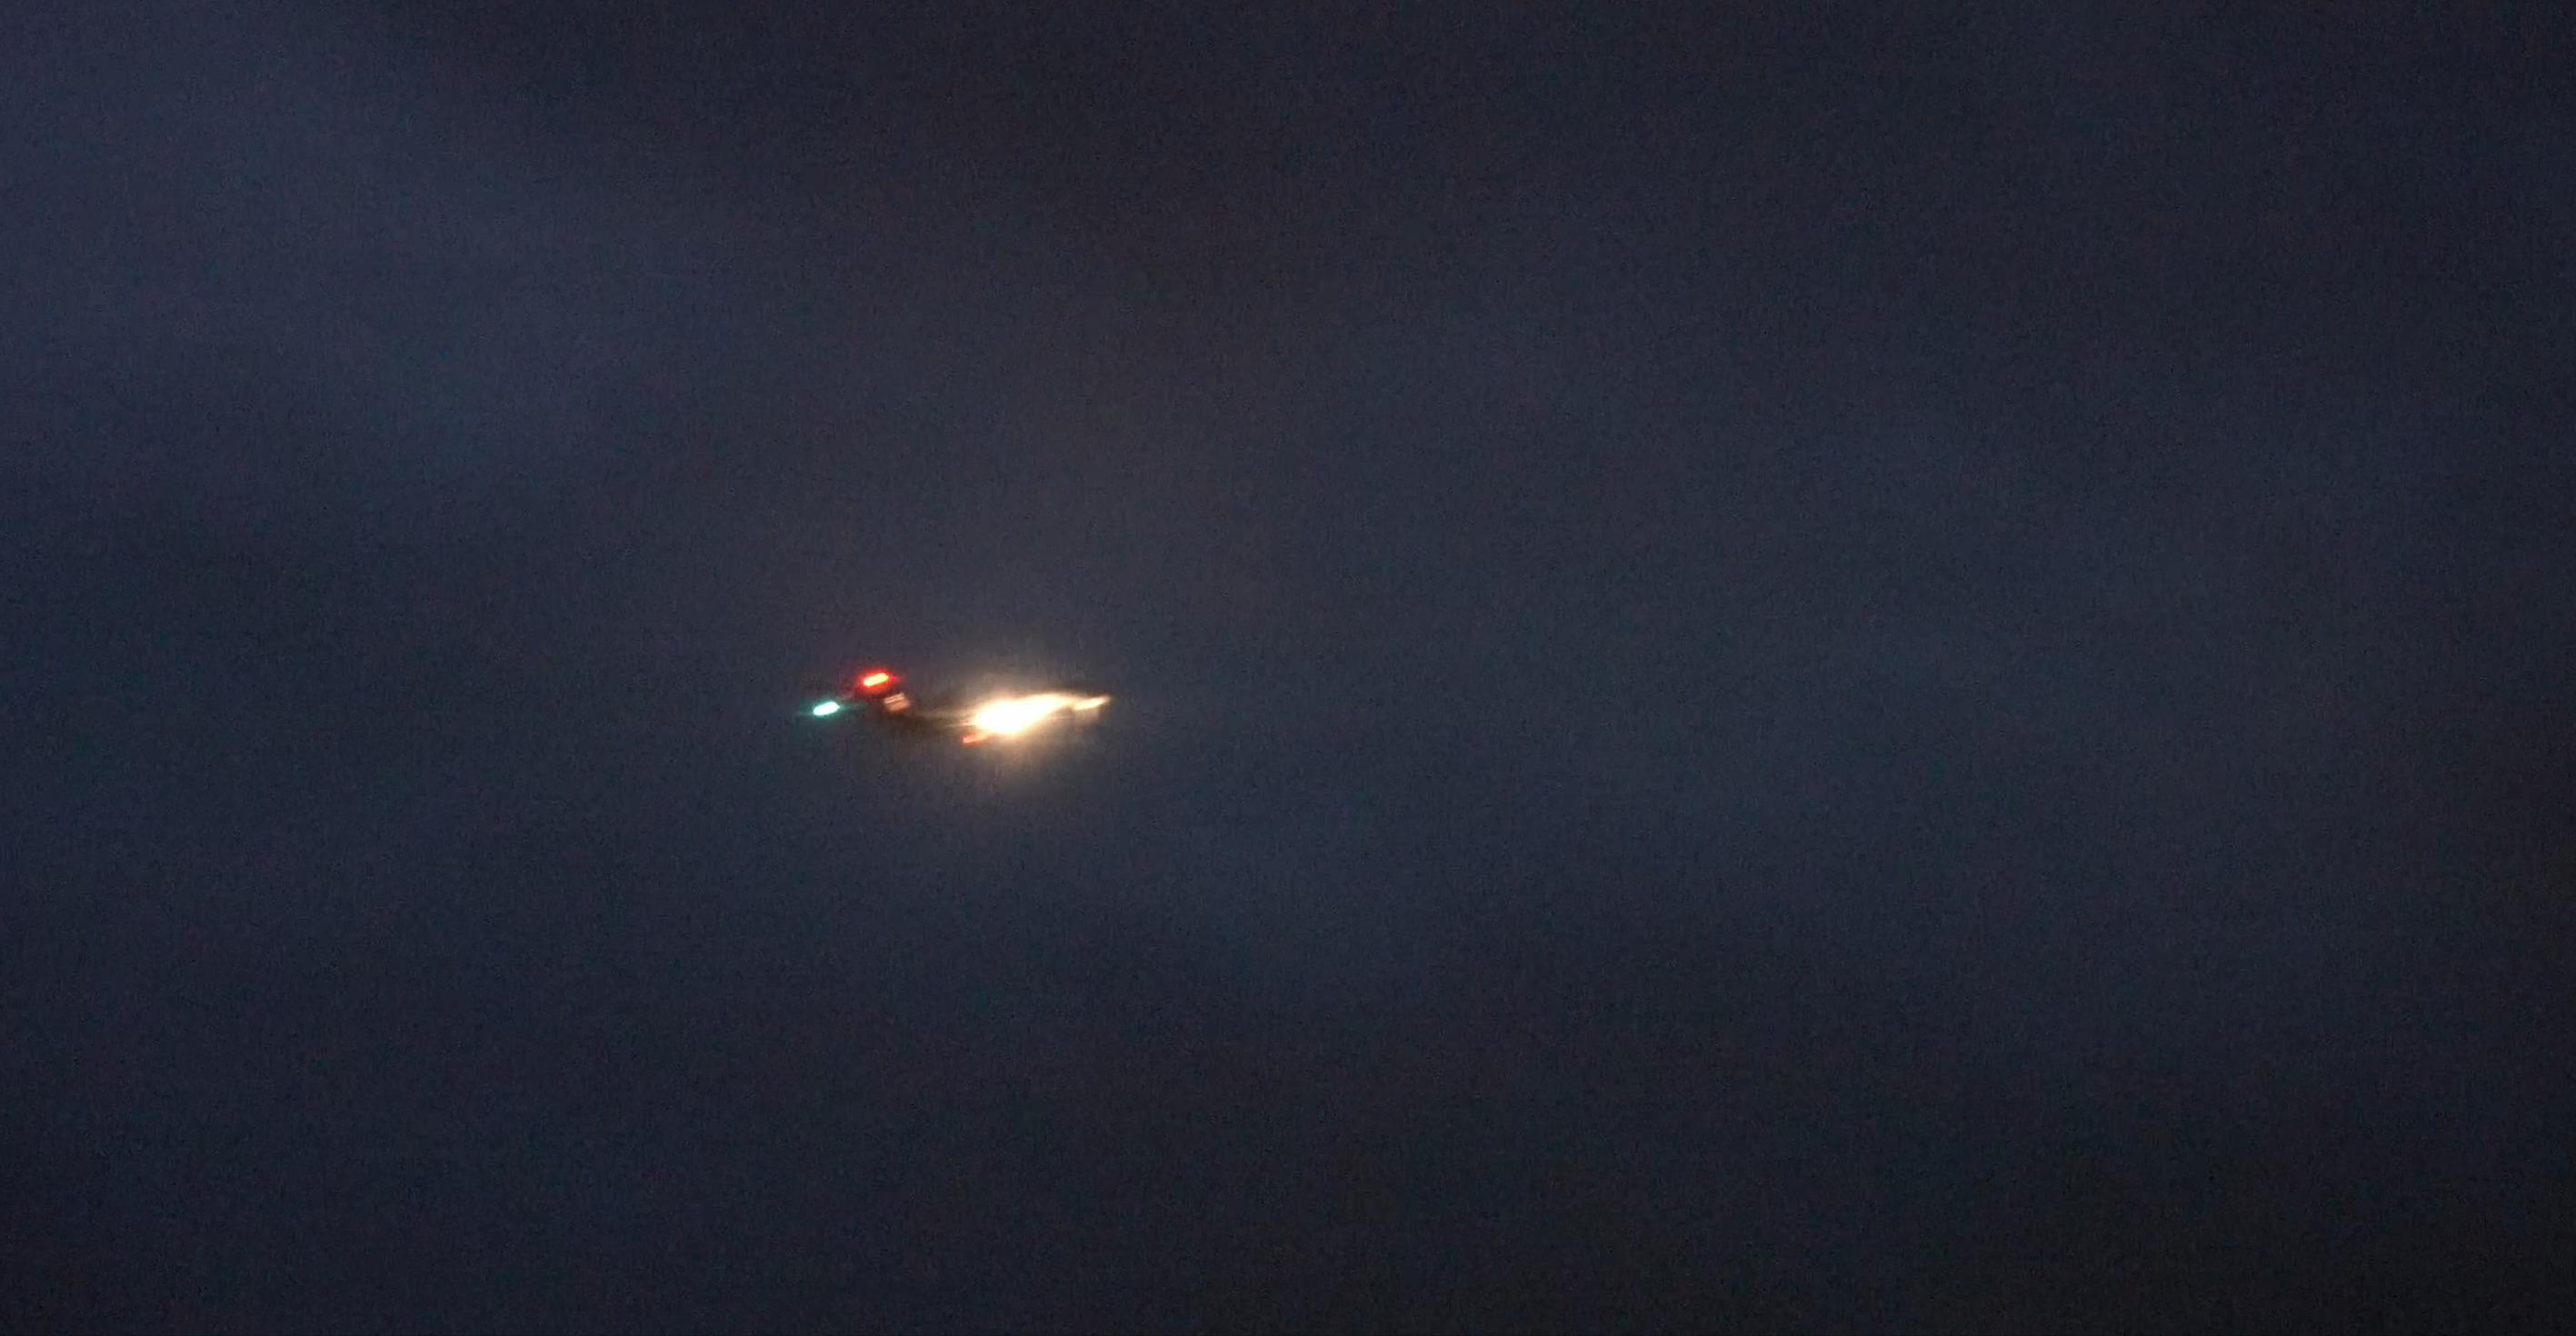Plane: (697, 595, 1259, 837)
